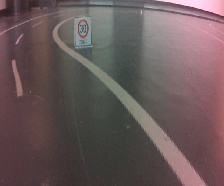zone 30 sign: (72, 14, 94, 50)
